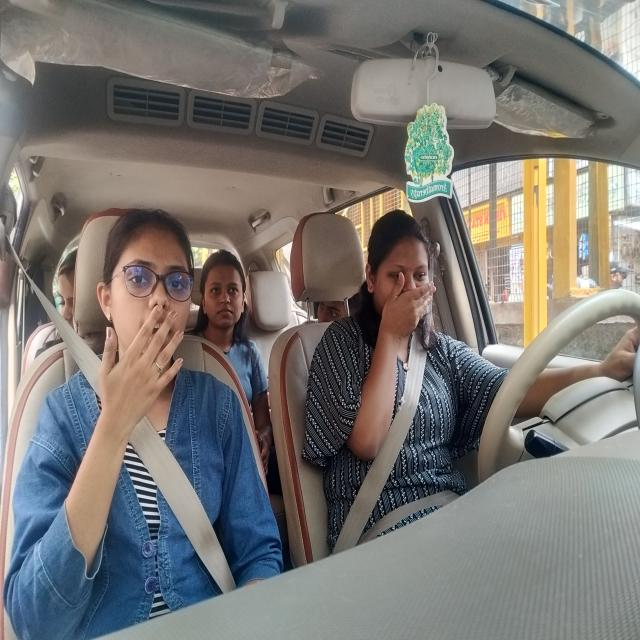drowsy: (354, 198, 440, 360)
person: (104, 190, 192, 388), (198, 231, 254, 357), (43, 220, 92, 352)
